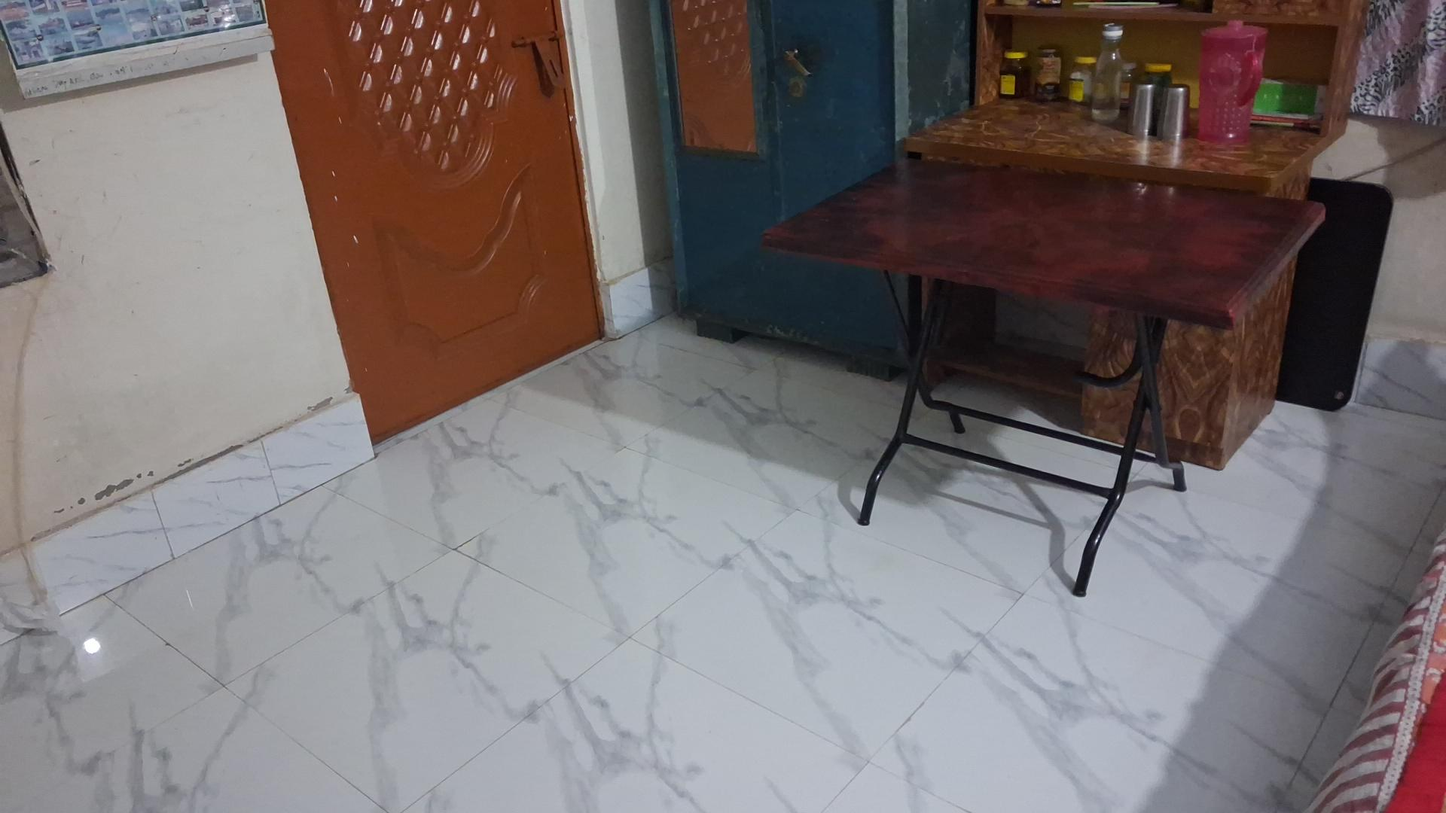Bottle: (1089, 22, 1125, 123)
Box: (1253, 79, 1315, 115)
Door: (261, 0, 612, 434)
Glass: (1163, 83, 1190, 145), (1127, 78, 1153, 138)
Jar: (1035, 47, 1065, 100), (1068, 53, 1095, 102), (999, 51, 1027, 98)
Jug: (1200, 23, 1264, 142)
Mirror: (671, 11, 761, 152)
Table: (763, 157, 1340, 569)
